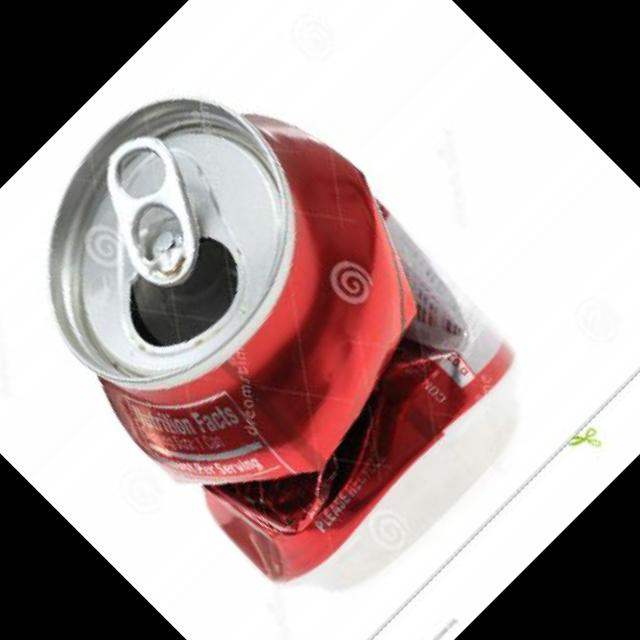Kaleng: (0, 20, 547, 608)
